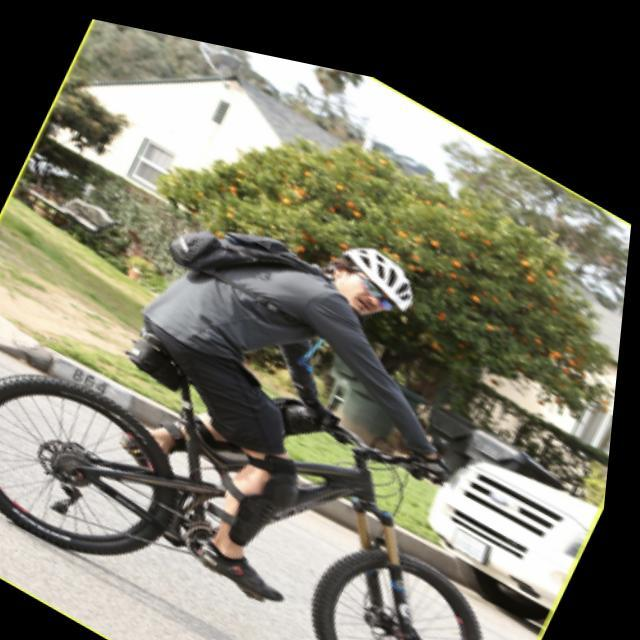Helmet: (339, 243, 416, 314)
